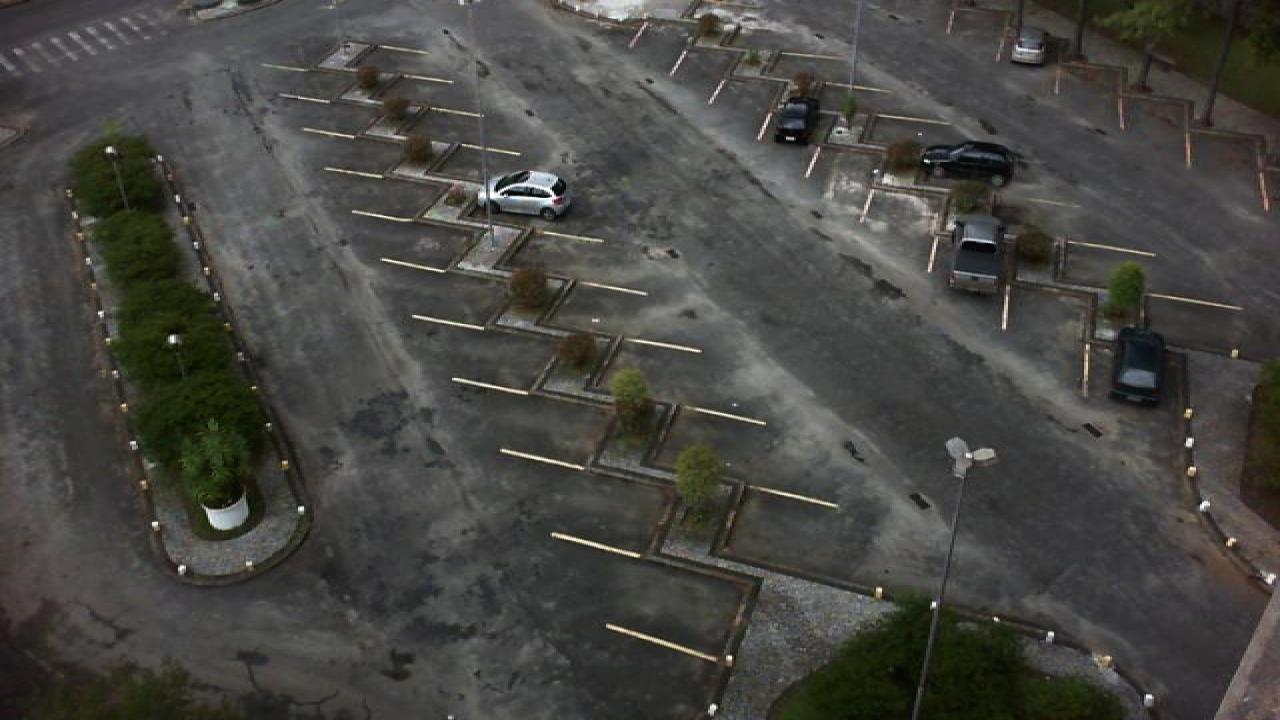Car: (948, 214, 1004, 296), (484, 170, 572, 222), (1108, 327, 1166, 405), (920, 140, 1022, 184), (770, 96, 818, 144), (1006, 28, 1048, 65)
